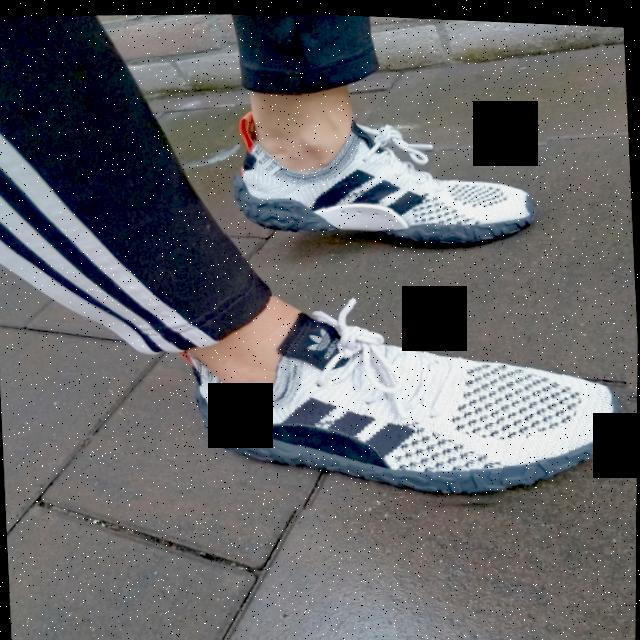shoe: (166, 272, 634, 529), (216, 80, 553, 265)
